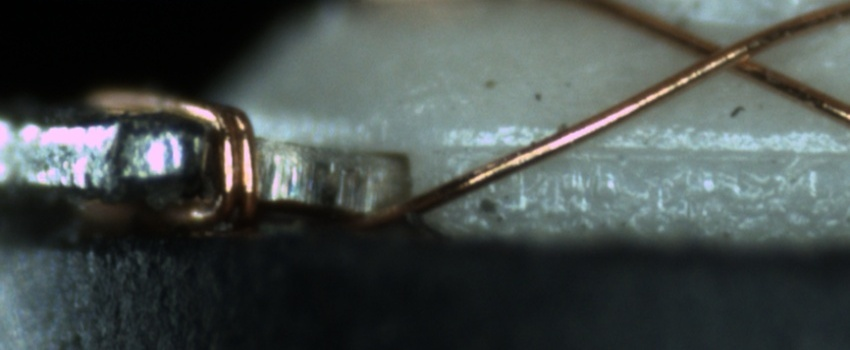CL: (674, 26, 773, 83)
DL: (446, 120, 850, 182)
TE: (88, 81, 268, 235)
